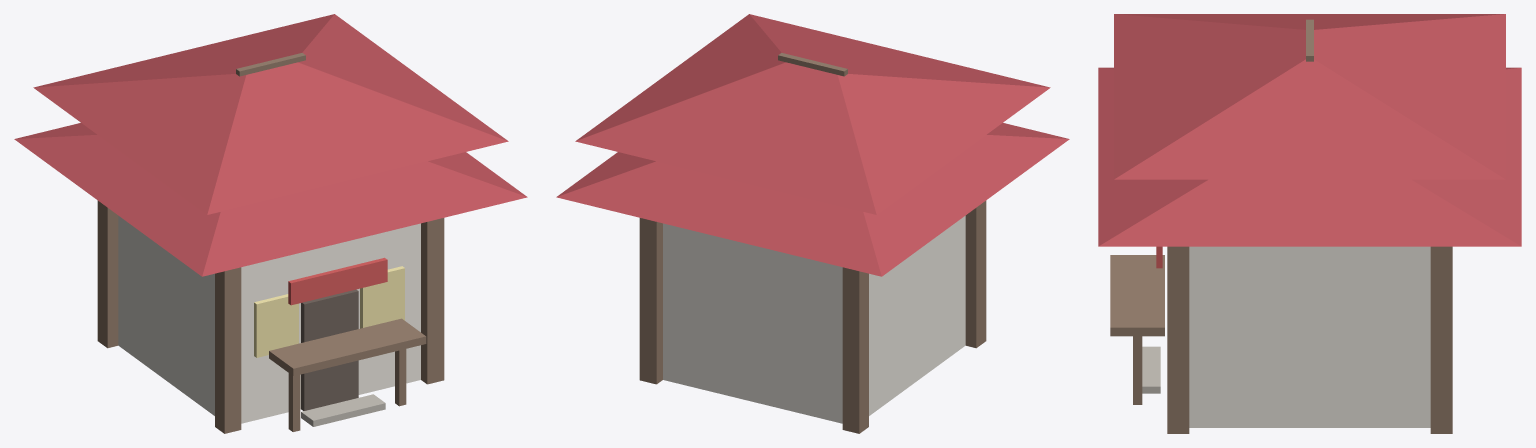
File: residential_f.glb
3 renders of one model, left to right at view 1: azimuth 30°, elevation 25°; view 2: azimuth 150°, elevation 25°; view 3: azimuth 270°, elevation 25°, orthographic. The views are drawn at different scales.
Bounding box in the file's own units: 5.4 × 4.73 × 5.4.
